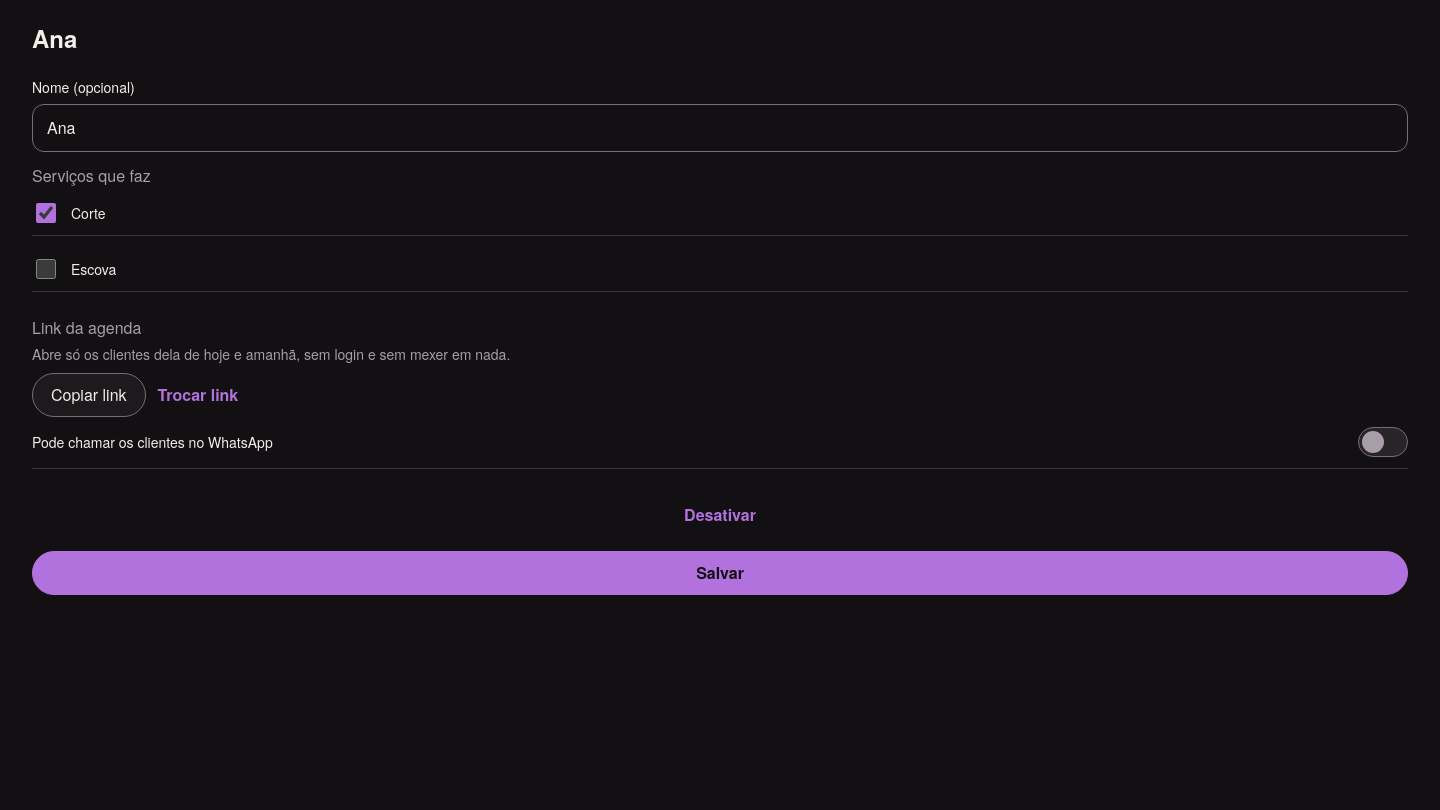
Test: PainelPessoa: link da agenda › a chave do WhatsApp começa como está e grava; erro de rede avisa e volta
Click the checkbox labelled "Pode chamar os clientes no WhatsApp".
click(1383, 442)  # box x1=1358 y1=427 x2=1408 y2=457
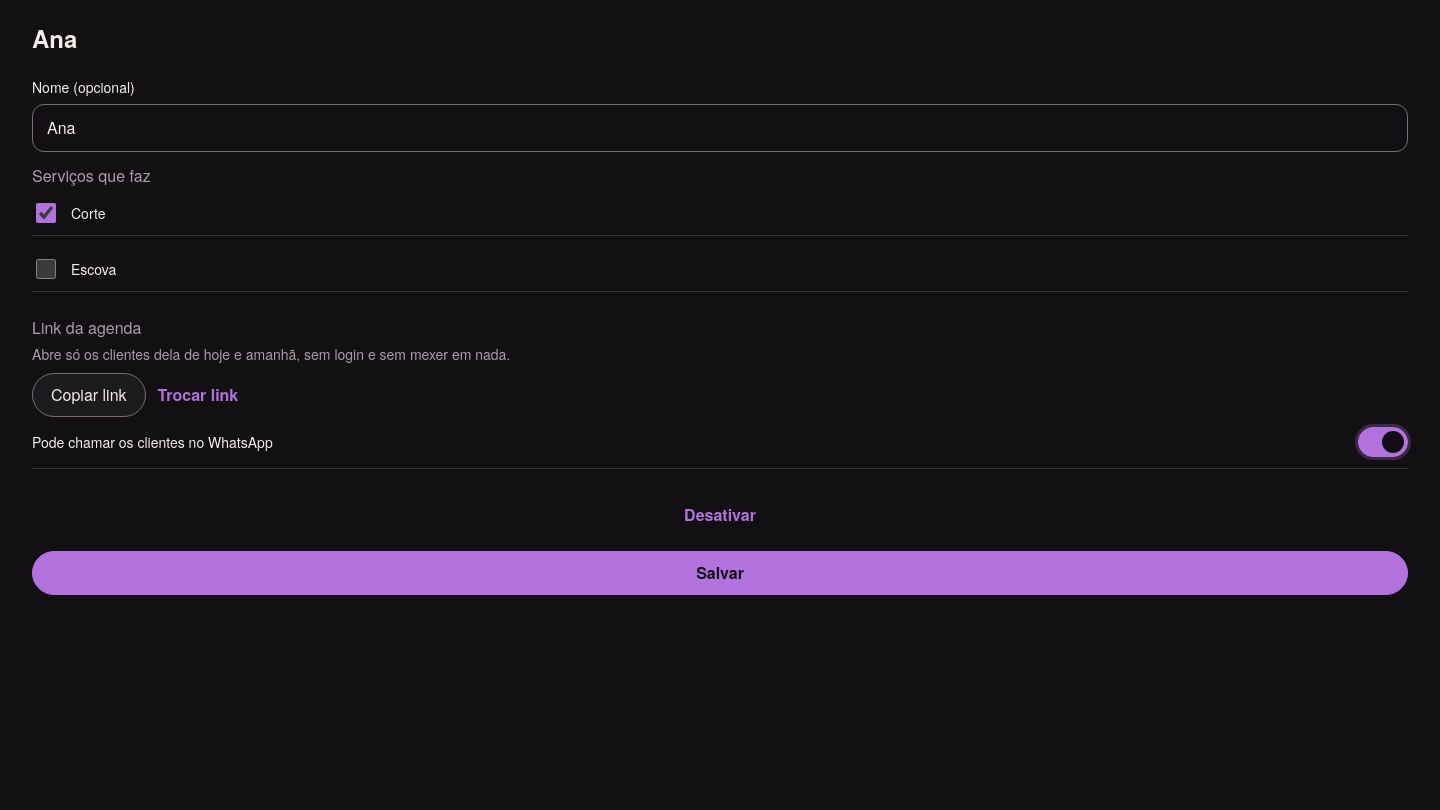
Check: the checkbox labelled "Pode chamar os clientes no WhatsApp" is checked
Click the checkbox labelled "Pode chamar os clientes no WhatsApp".
click(1383, 442)  # box x1=1358 y1=427 x2=1408 y2=457
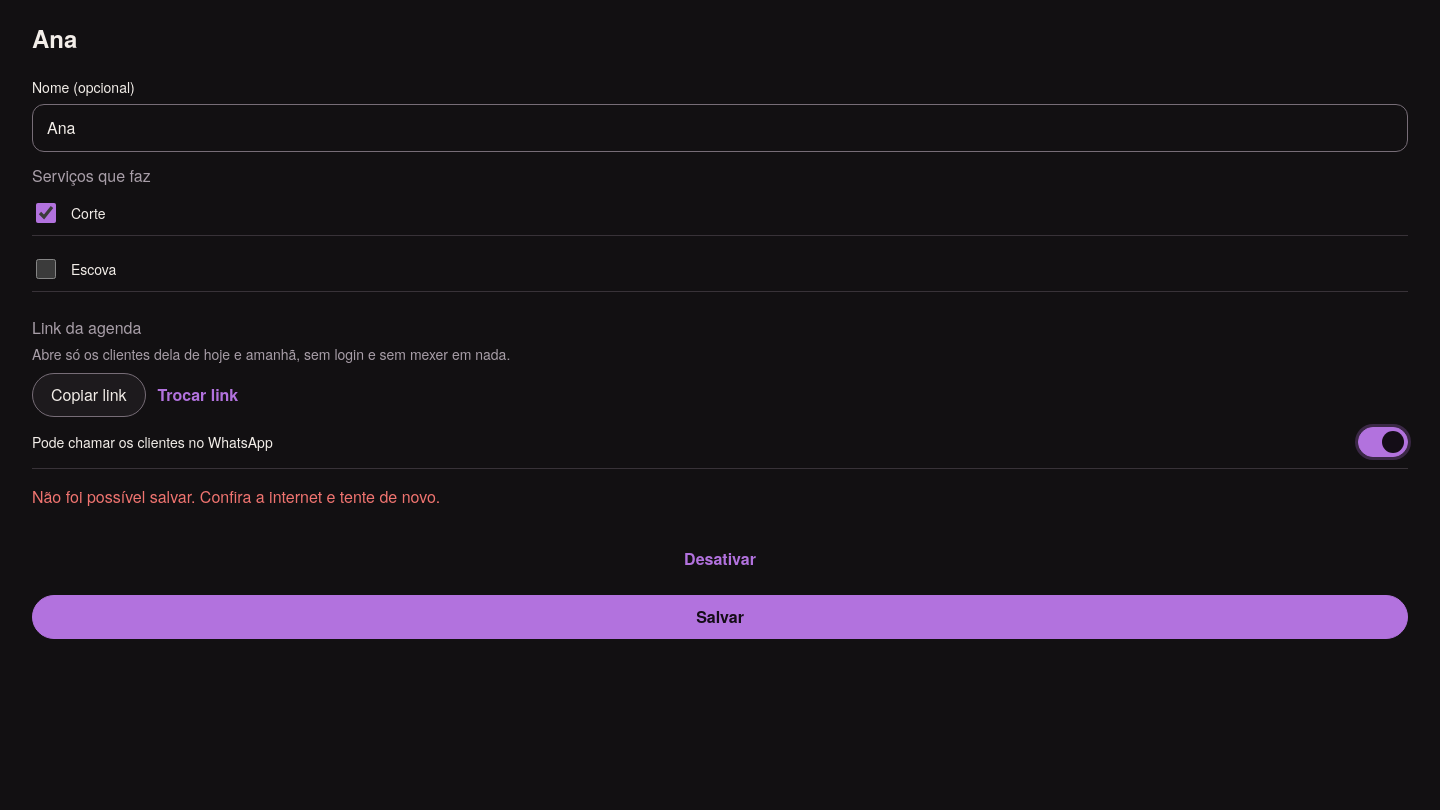
Check: the checkbox labelled "Pode chamar os clientes no WhatsApp" is checked, box x1=1358 y1=427 x2=1408 y2=457
Check: the message shows "Não foi possível salvar", box x1=32 y1=485 x2=440 y2=508
